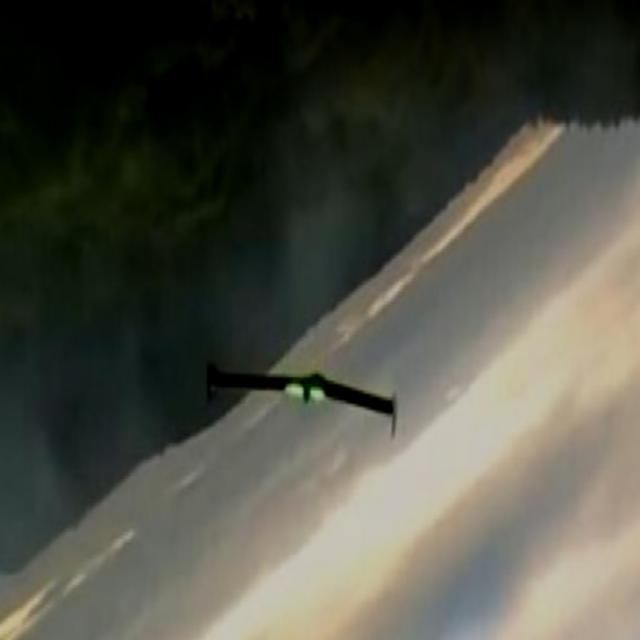plane: (205, 362, 398, 441)
